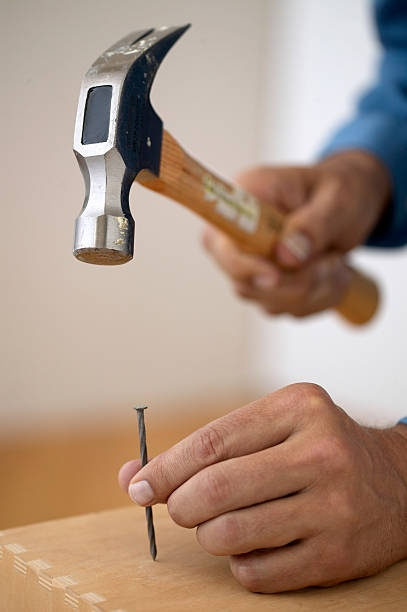hammer: (66, 20, 380, 321)
